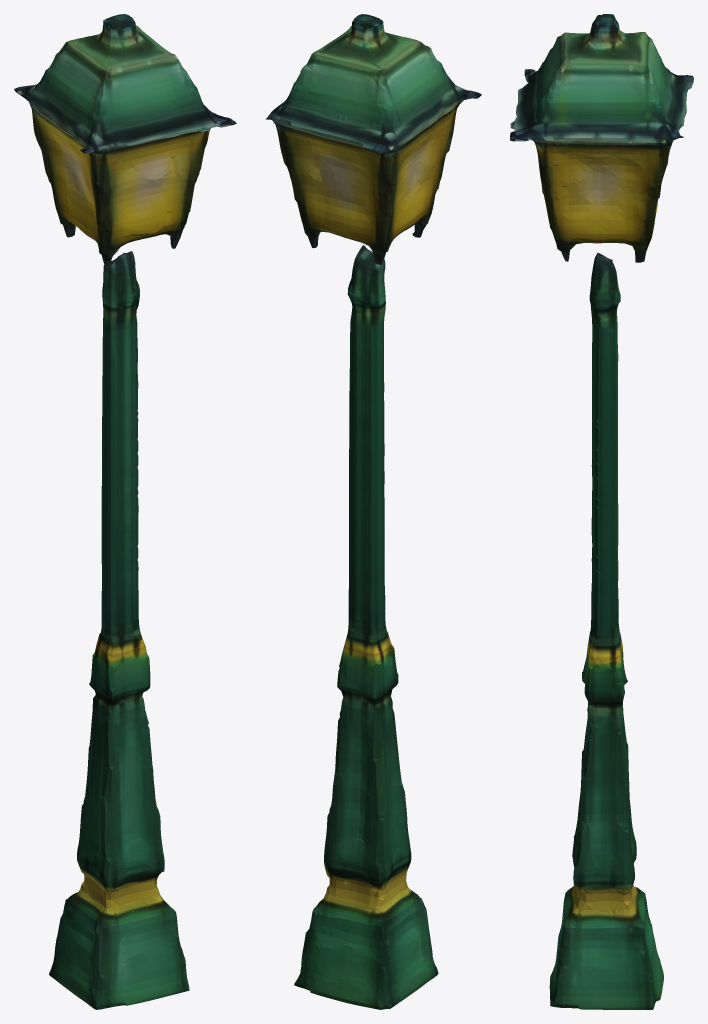
File: street_lamp.obj
The picture shows the model from 3 angles, left to right: view 1: azimuth 30°, elevation 25°; view 2: azimuth 150°, elevation 25°; view 3: azimuth 270°, elevation 25°; orthographic projection.
Visible parts, largest first — view 1: street_lamp; view 2: street_lamp; view 3: street_lamp.
Part boxes in pixels (left/top/right/bottom): street_lamp: left=14, top=14, right=236, bottom=1009; street_lamp: left=265, top=14, right=481, bottom=1009; street_lamp: left=510, top=14, right=693, bottom=1009.
Bounding box in the file's own units: 0.3097 × 1.96 × 0.338.
Materials: 1 (1 with a texture image).
